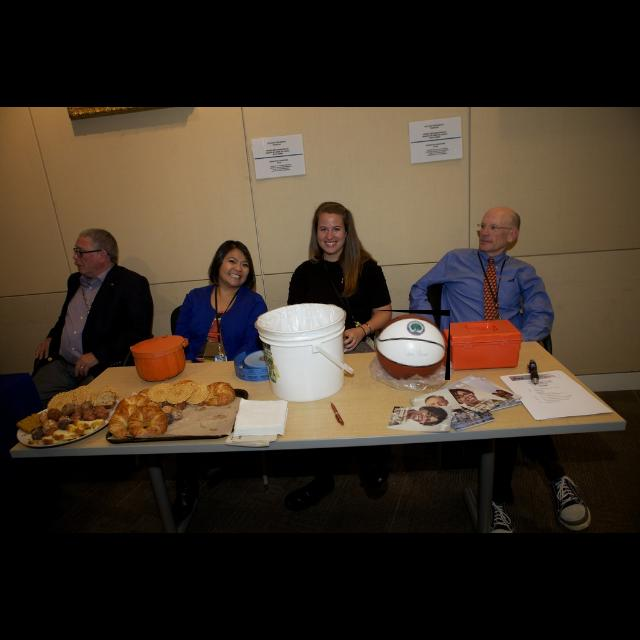Football: (374, 310, 450, 380)
